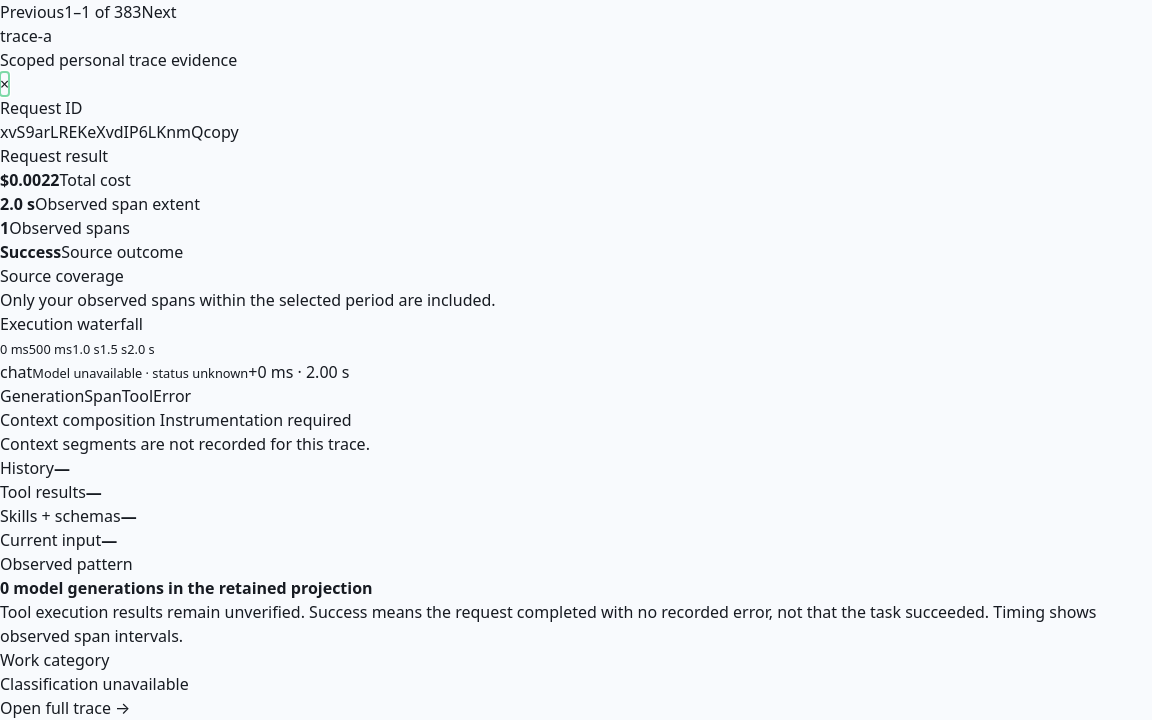
Test: opens full trace detail with the project preserved
(page scrolled)
What coordinates should you click on to do the following:
click the link "Open full trace →"
I would click on:
 (65, 708)
Its box is [0,697,130,719].
(page scrolled)
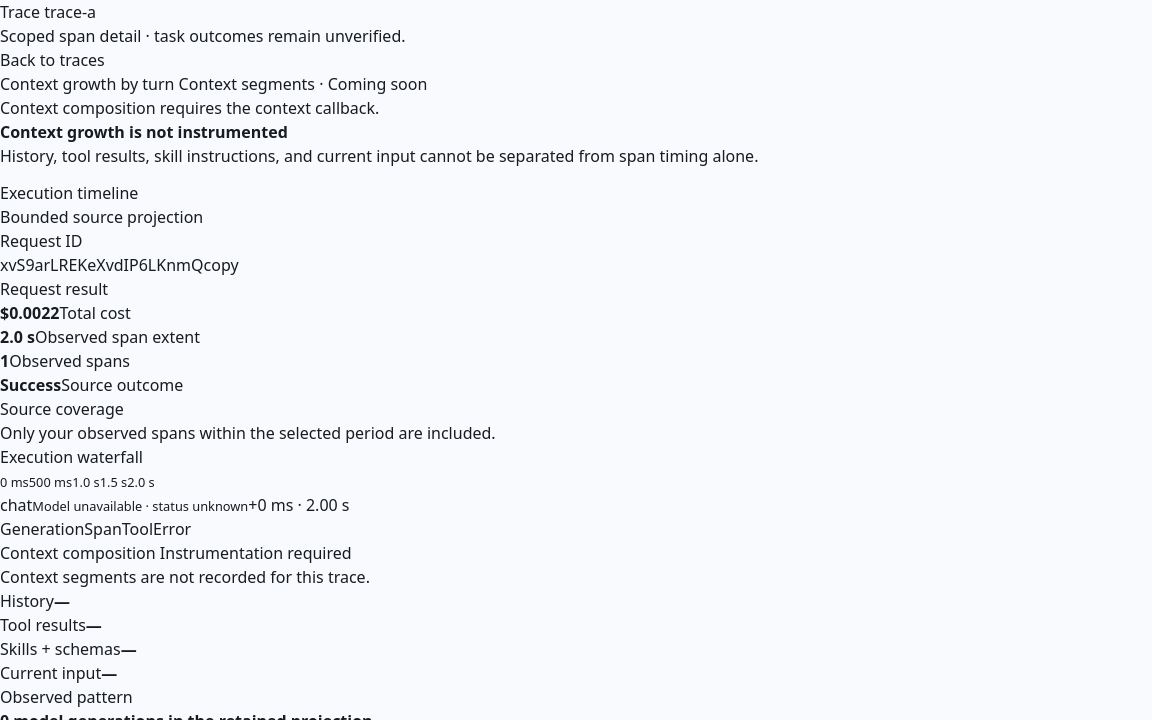
Expected: the heading "Trace trace-a" is shown, [0,1,96,23]
Expected: the heading "Execution timeline" is shown, [0,182,138,204]
Expected: the dialog is gone
